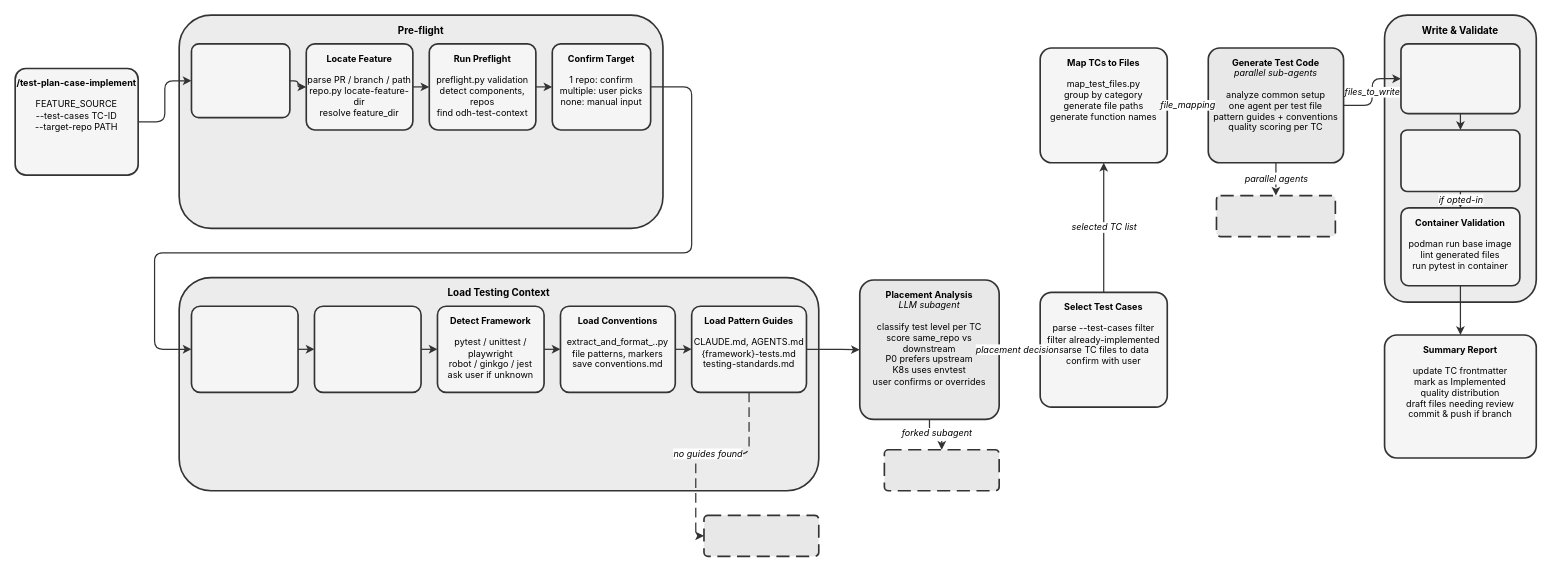
This 1551x571 diagram has some shape labels left out. Here are the shapes that lost their labels. From the top down, the centre of each, then its label:
point (240, 80): Install Deps uv sync --extra dev test-plan package
point (1460, 78): Write Test Files mkdir -p, write content py_compile syntax check
point (1460, 160): Validate Imports import in repo context warn on failures
point (1275, 215): test-plan-generate-test-file (parallel, one per file)
point (244, 349): Load Repo Context odh-test-context JSON framework, conventions container recipe
point (367, 349): Load Downstream opendatahub-tests ctx E2E conventions fallback defaults
point (941, 470): test-plan.analyze.placement
point (761, 535): Tiger Team /test-rules-generator
